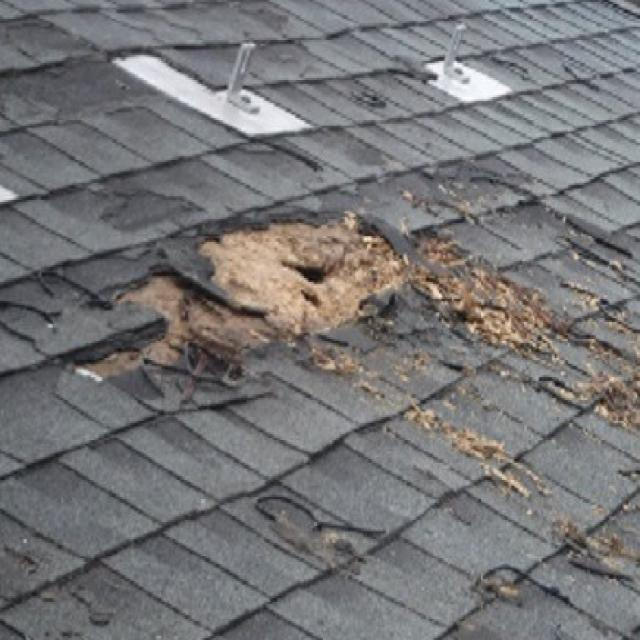damage: (4, 170, 575, 425), (413, 144, 639, 300), (227, 475, 404, 580)
